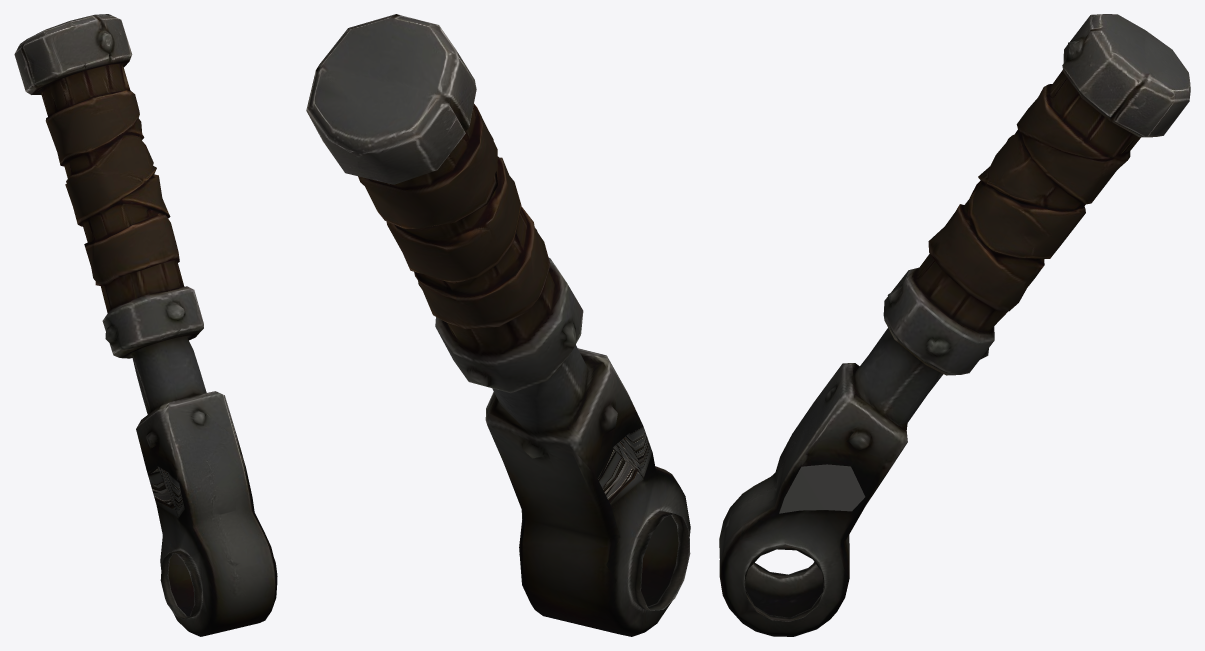
File: Lever_Handle.fbx
3 views of the same model, side by side, from view 1: azimuth 30°, elevation 25°; view 2: azimuth 150°, elevation 25°; view 3: azimuth 270°, elevation 25° (orthographic). The views are drawn at different scales.
Visible parts, largest first — view 1: Lever_Handle; view 2: Lever_Handle; view 3: Lever_Handle.
Part boxes in pixels (bbox=[...]): Lever_Handle: bbox=[14, 14, 277, 636]; Lever_Handle: bbox=[306, 14, 690, 636]; Lever_Handle: bbox=[719, 14, 1190, 636].
Size of the model in its own units: 11.14 by 58.1 by 41.46.
Materials: 1 (1 with a texture image).
